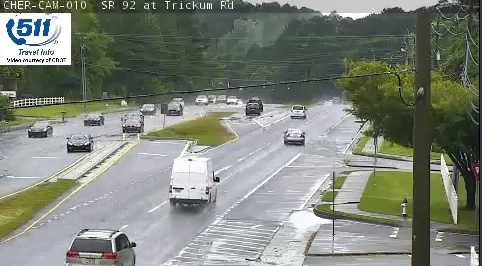car: (64, 229, 137, 266), (284, 129, 306, 145), (290, 105, 305, 118)
van: (168, 156, 216, 203)
